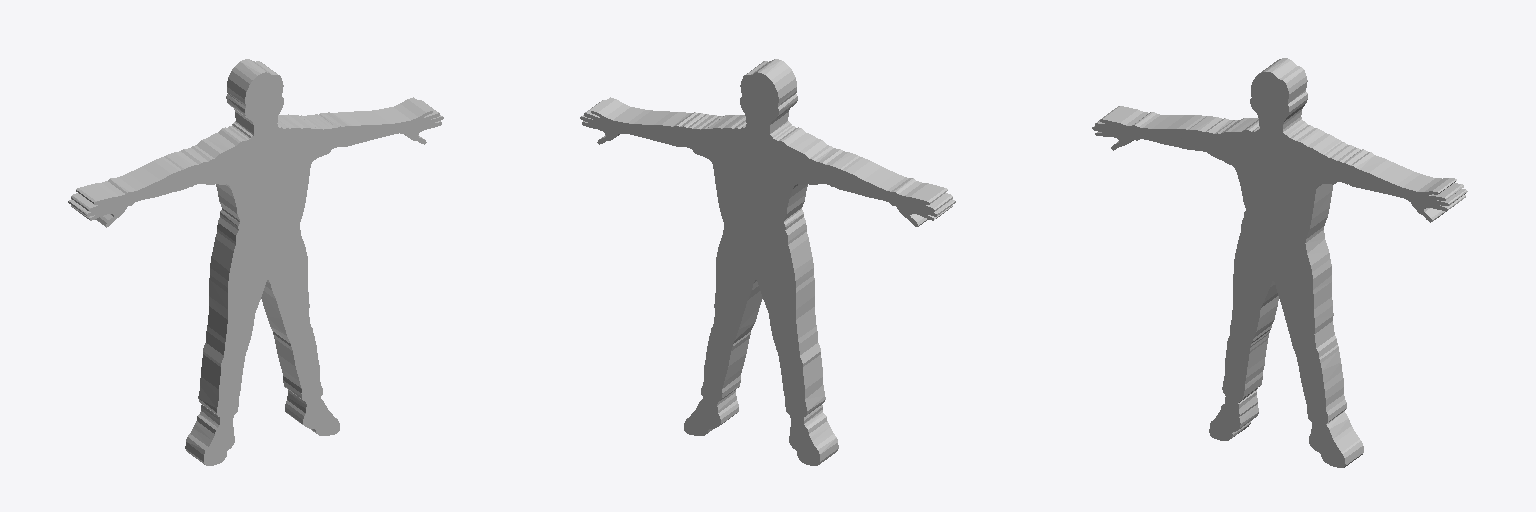
File: Felix.obj
3 views of the same model, side by side, from view 1: azimuth 30°, elevation 25°; view 2: azimuth 150°, elevation 25°; view 3: azimuth 330°, elevation 25° (orthographic).
Visible parts, largest first — view 1: Curve_CUCurve.001; view 2: Curve_CUCurve.001; view 3: Curve_CUCurve.001.
Boxes of the visible parts, x1,y1,x2,y2 form: Curve_CUCurve.001: [68, 59, 443, 465]; Curve_CUCurve.001: [580, 59, 955, 465]; Curve_CUCurve.001: [1092, 58, 1467, 467].
Bounding box in the file's own units: 3.83 × 3.91 × 0.3439.